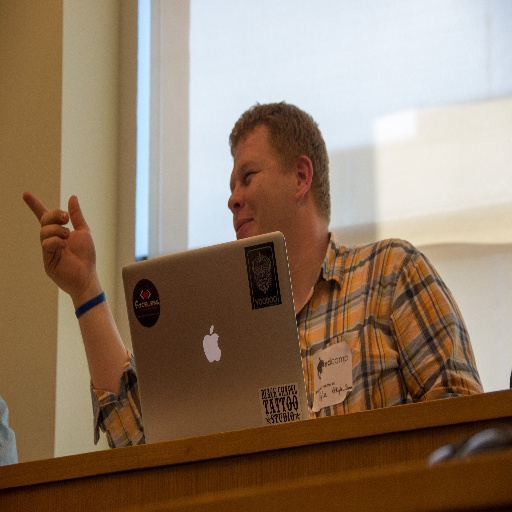hand: (20, 185, 112, 316)
